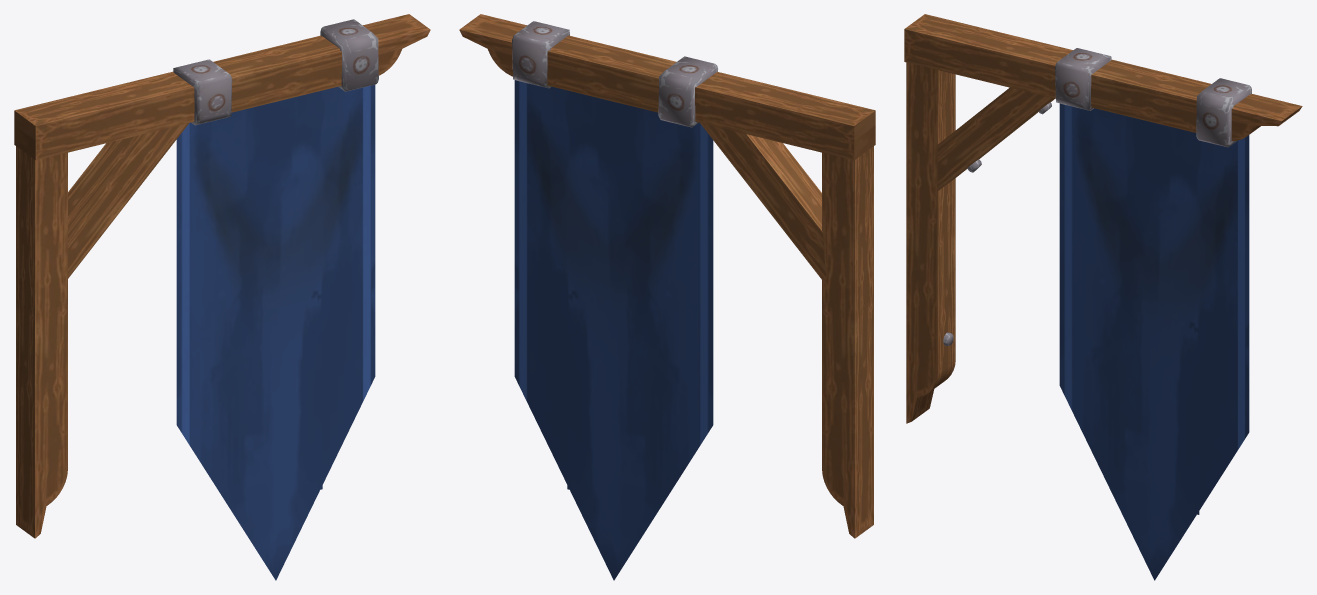
The model's file is Banner_2.gltf.
The picture shows the model from 3 angles, left to right: view 1: azimuth 30°, elevation 25°; view 2: azimuth 150°, elevation 25°; view 3: azimuth 330°, elevation 25°; orthographic projection. The views are drawn at different scales.
Parts seen in each view (by area): view 1: Banner_2; view 2: Banner_2; view 3: Banner_2.
Boxes of the visible parts, x1=… form: Banner_2: x1=14, y1=14, x2=430, y2=580; Banner_2: x1=459, y1=14, x2=875, y2=580; Banner_2: x1=904, y1=14, x2=1302, y2=580.
Bounding box in the file's own units: 1.61 × 2.08 × 0.1906.
3 materials, 3 textured.
